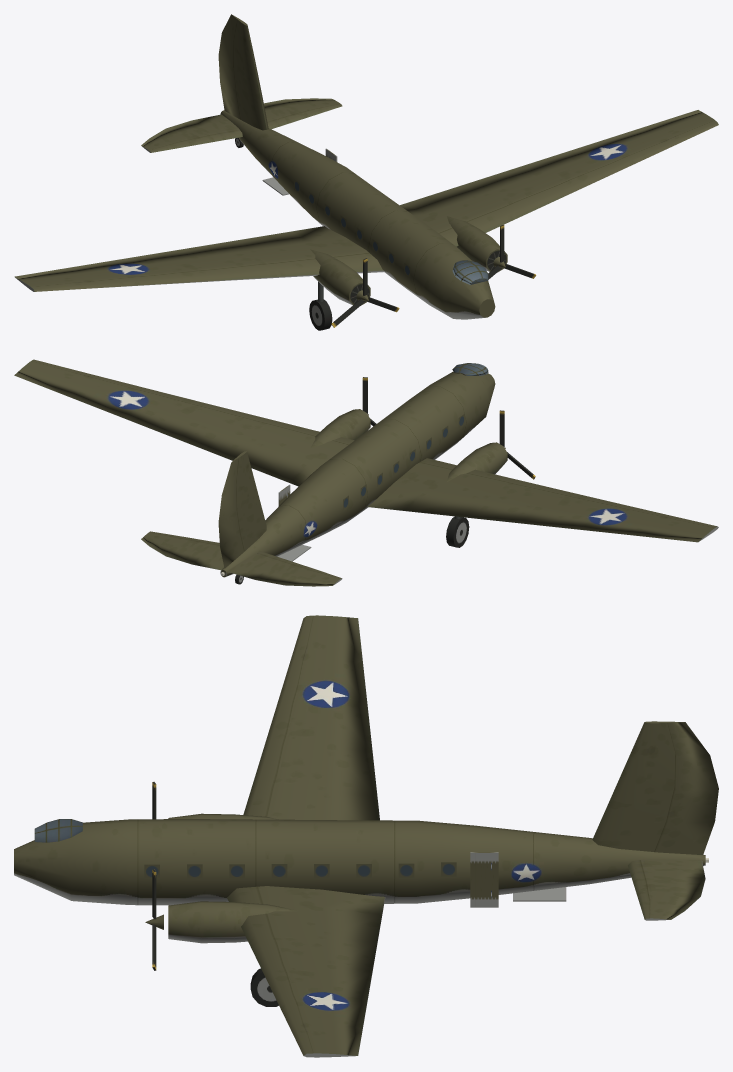
The model's file is airTransport.glb.
The picture shows the model from 3 angles, top to bottom: view 1: azimuth 30°, elevation 25°; view 2: azimuth 150°, elevation 25°; view 3: azimuth 270°, elevation 25°; orthographic projection. The views are drawn at different scales.
Parts seen in each view (by area): view 1: fuselage, hublots, wheel_right, prop_right_pales; view 2: fuselage, hublots, wheel_right, prop_right_pales; view 3: fuselage, hublots, cabin_door.
Boxes of the visible parts, <box> form: fuselage: <box>14,14,718,319</box>; hublots: <box>294,179,410,277</box>; wheel_right: <box>309,299,332,330</box>; prop_right_pales: <box>331,258,399,327</box>; fuselage: <box>14,359,718,586</box>; hublots: <box>343,414,464,510</box>; wheel_right: <box>446,517,469,547</box>; prop_right_pales: <box>499,410,535,479</box>; fuselage: <box>14,615,718,1057</box>; hublots: <box>144,862,456,878</box>; cabin_door: <box>470,852,498,907</box>.
Size of the model in its own units: 29.11 by 7.41 by 19.81.
Materials: 6 (5 with a texture image).
